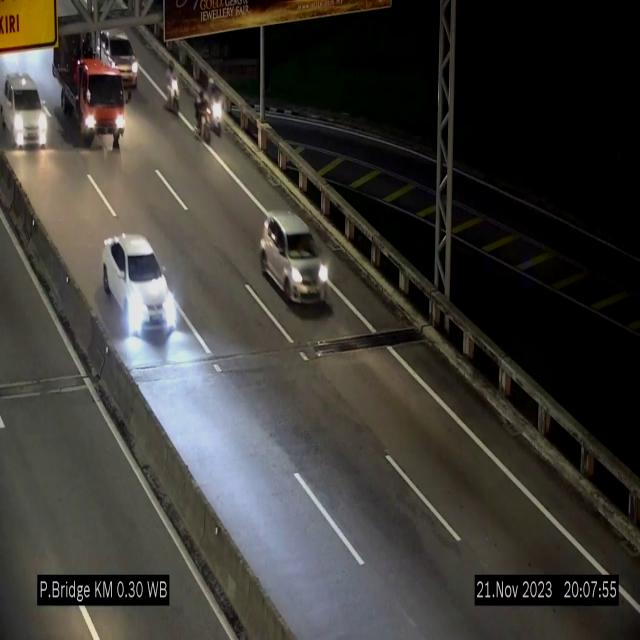Car: (103, 234, 179, 332), (260, 212, 326, 305), (1, 77, 53, 159)
Motorcycle: (204, 76, 228, 138), (164, 54, 182, 124), (192, 90, 213, 148)
Truck: (53, 29, 128, 145)
